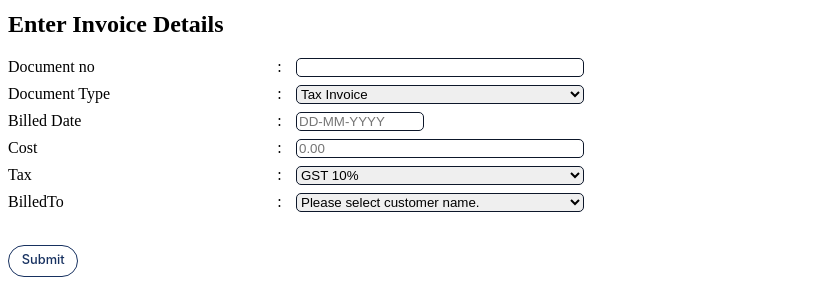
Scenario: Invoices Component: Form › Renders "Error Message" where cost for tax invoice is in negative
In the field named "docNo": x=440, y=67 x1=296 y1=58 x2=584 y2=77, type "INV001"
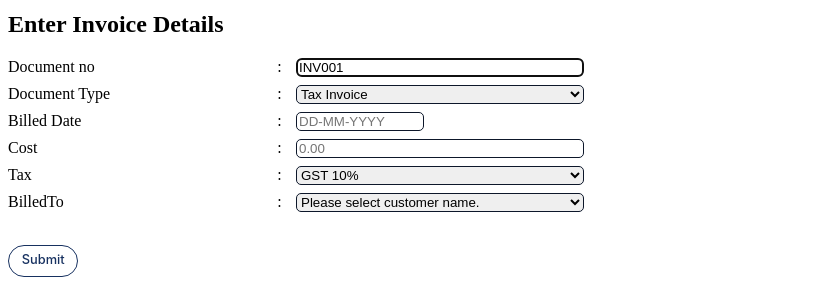
In the field named "date": x=360, y=122 x1=296 y1=112 x2=424 y2=131, type "30-04-2020"
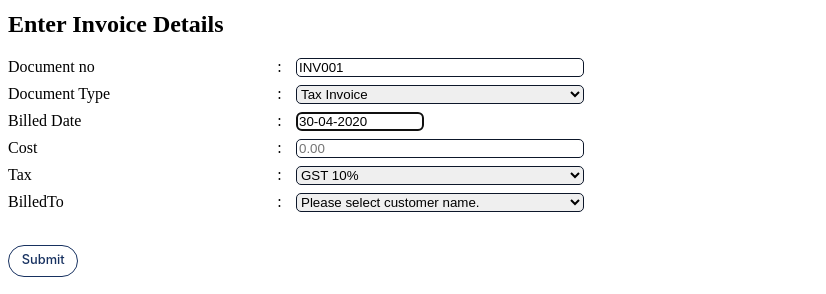
In the field named "cost": x=440, y=149 x1=296 y1=139 x2=584 y2=158, type "-1000"
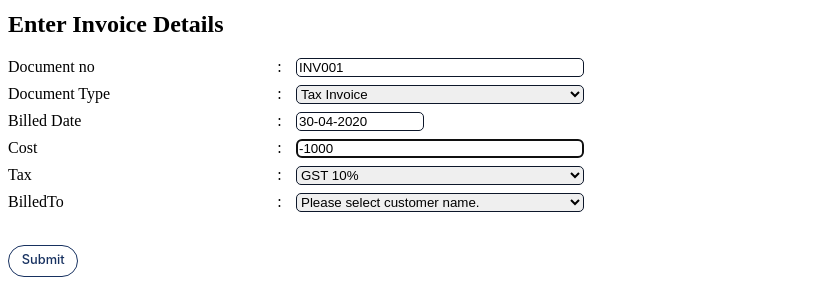
Click the button: x=43, y=261 x1=8 y1=245 x2=78 y2=277
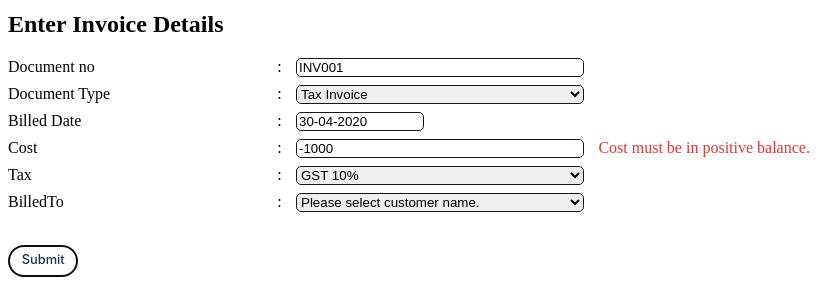
Expected: the text "Cost must be in positive balance." is shown, x1=598 y1=139 x2=810 y2=156
